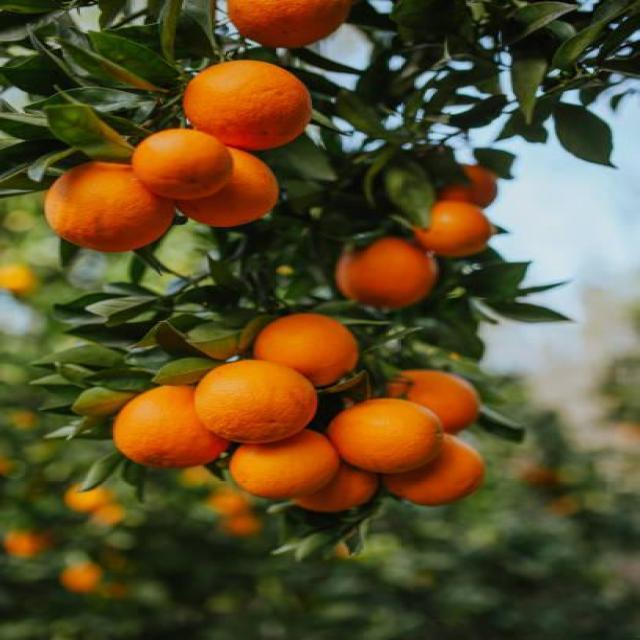Jeruk Sudah Matang: (178, 58, 316, 152), (46, 161, 176, 253), (194, 358, 318, 444), (113, 386, 232, 470), (175, 146, 282, 229), (331, 399, 444, 474), (248, 312, 361, 386), (332, 238, 440, 312), (226, 430, 342, 498), (383, 437, 486, 507), (141, 130, 234, 202), (226, 0, 360, 49), (382, 369, 484, 432), (398, 204, 496, 255), (281, 472, 383, 516), (434, 164, 504, 198)
